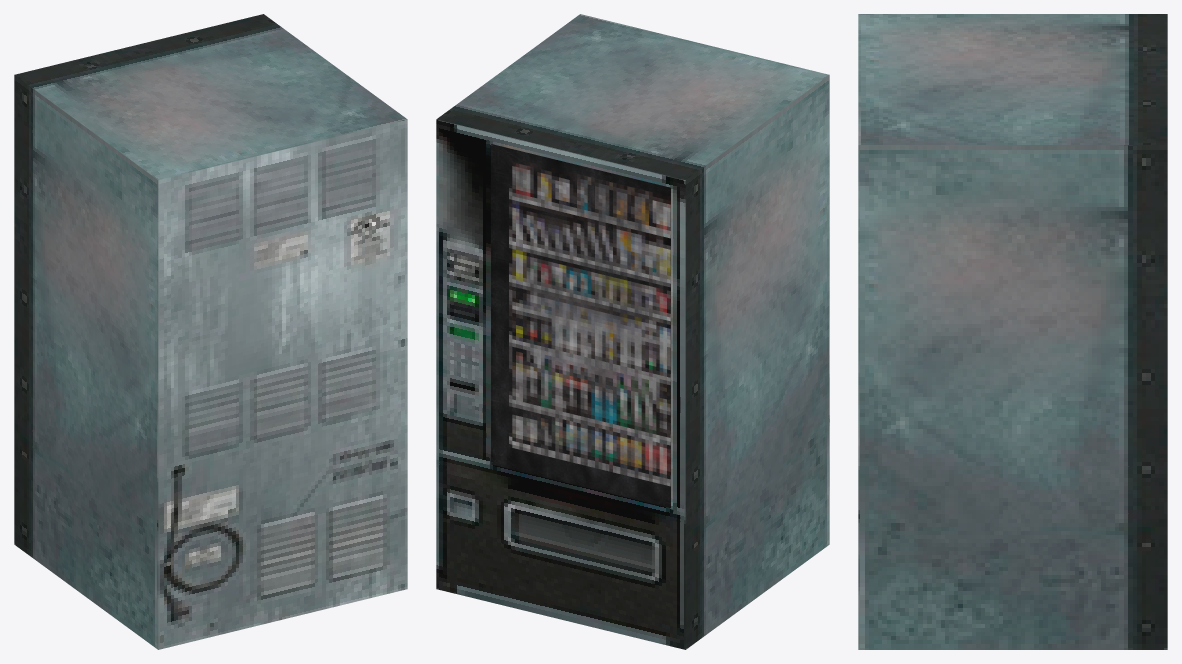
The model's file is retro_soda_machine_ps1.glb.
The picture shows the model from 3 angles, left to right: view 1: azimuth 30°, elevation 25°; view 2: azimuth 150°, elevation 25°; view 3: azimuth 270°, elevation 25°; orthographic projection. The views are drawn at different scales.
Visible parts, largest first — view 1: Object_2; view 2: Object_2, Object_4, Object_3; view 3: Object_2.
Boxes of the visible parts, bbox=[...] form: Object_2: bbox=[14, 14, 407, 649]; Object_2: bbox=[436, 14, 829, 649]; Object_4: bbox=[491, 144, 670, 507]; Object_3: bbox=[509, 157, 670, 486]; Object_2: bbox=[858, 14, 1167, 649].
Bounding box in the file's own units: 1 × 1.8 × 1.
3 materials, 3 textured.
